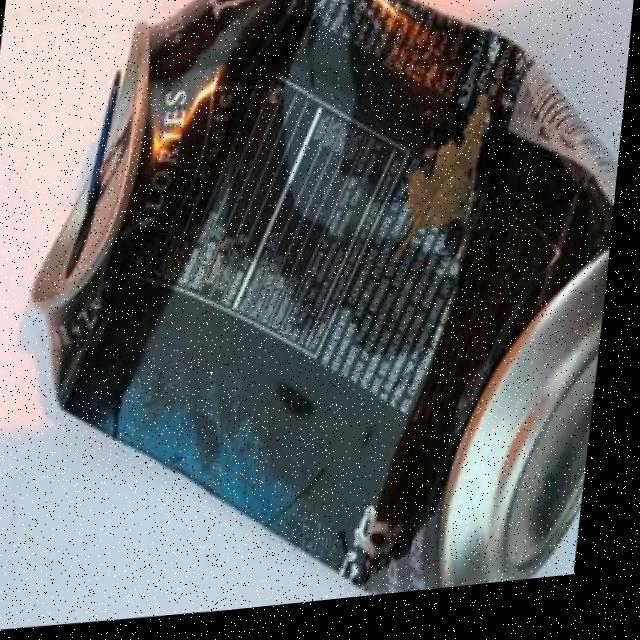metal: (6, 0, 640, 636)
